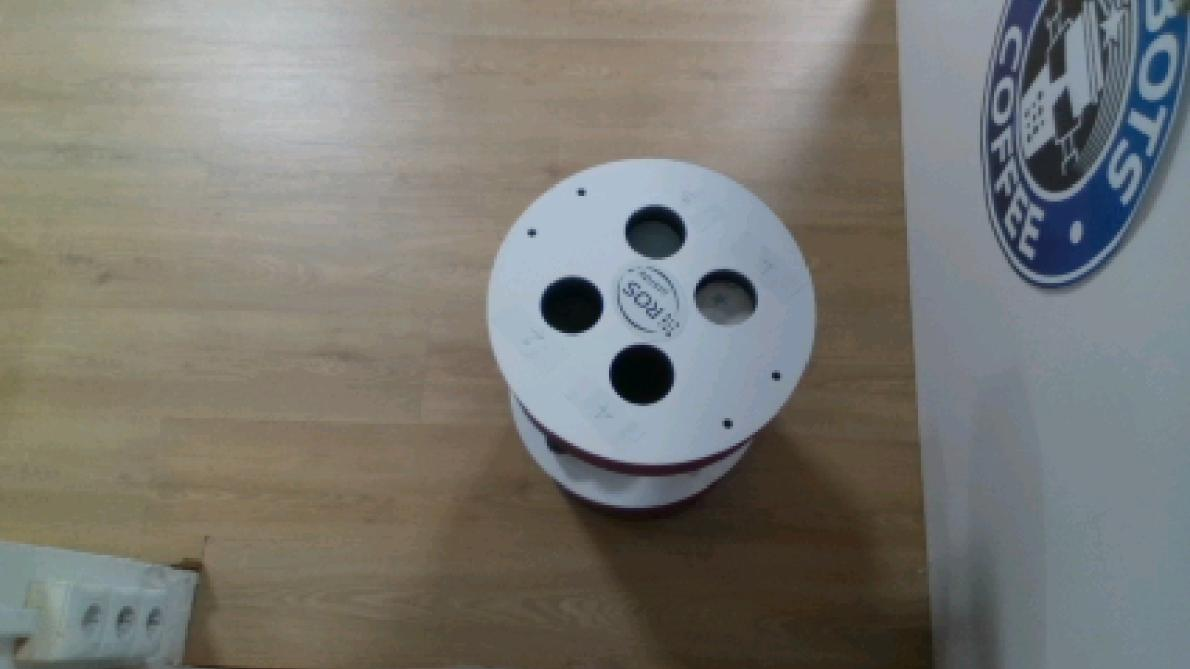hole: (604, 341, 678, 407), (693, 266, 761, 330), (538, 272, 604, 337), (624, 202, 689, 260)
